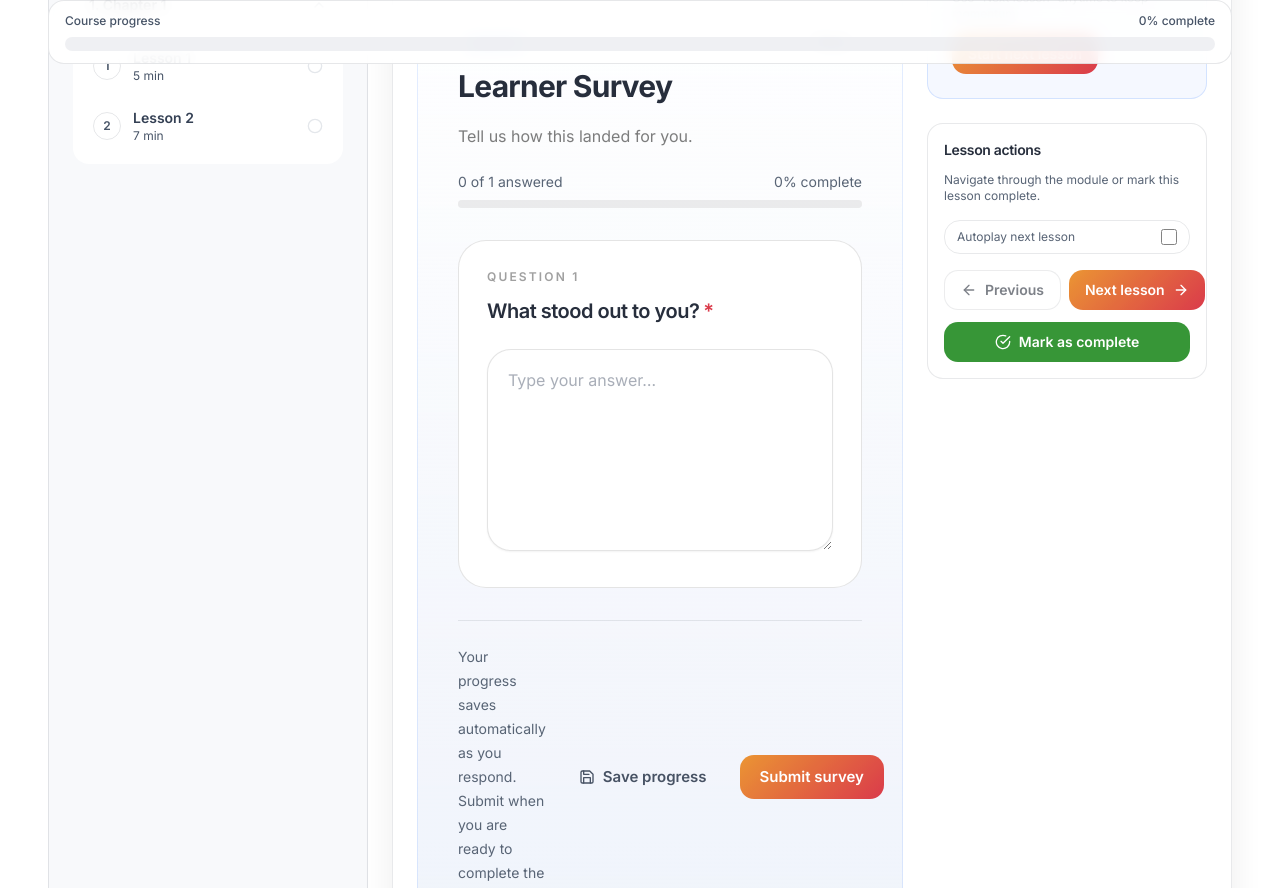
Test: CoursePlayer progress integration › loads a survey lesson, submits successfully, and advances to the next lesson
(page scrolled)
Expected: the heading "Learner Survey" is shown, [458,68,693,104]
Type "The pacing felt clear." into the text box with placeholder "Type your answer…" at (660, 450), box [487,349,833,551]
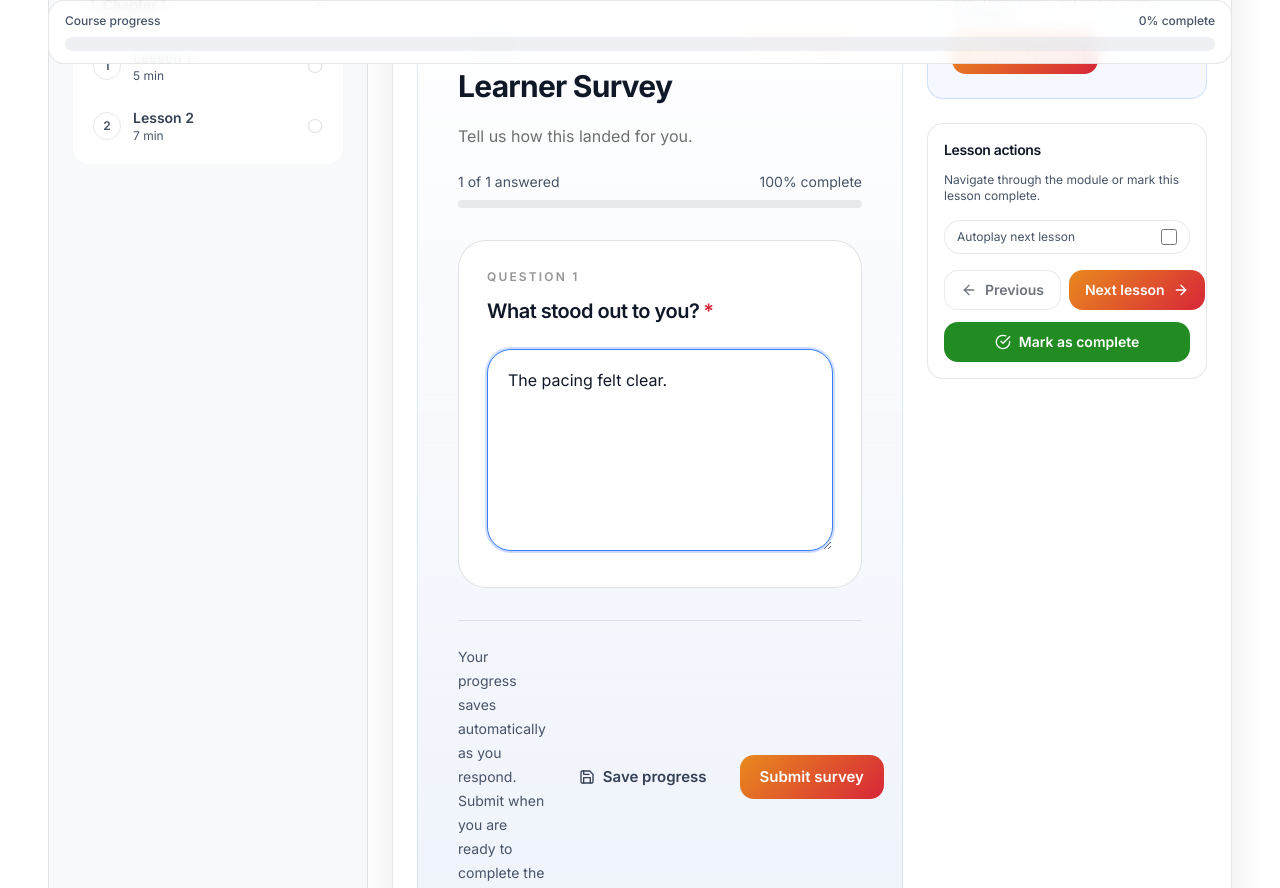
Click the button "Submit survey" at (812, 777), box [740,755,884,799]
(page scrolled)
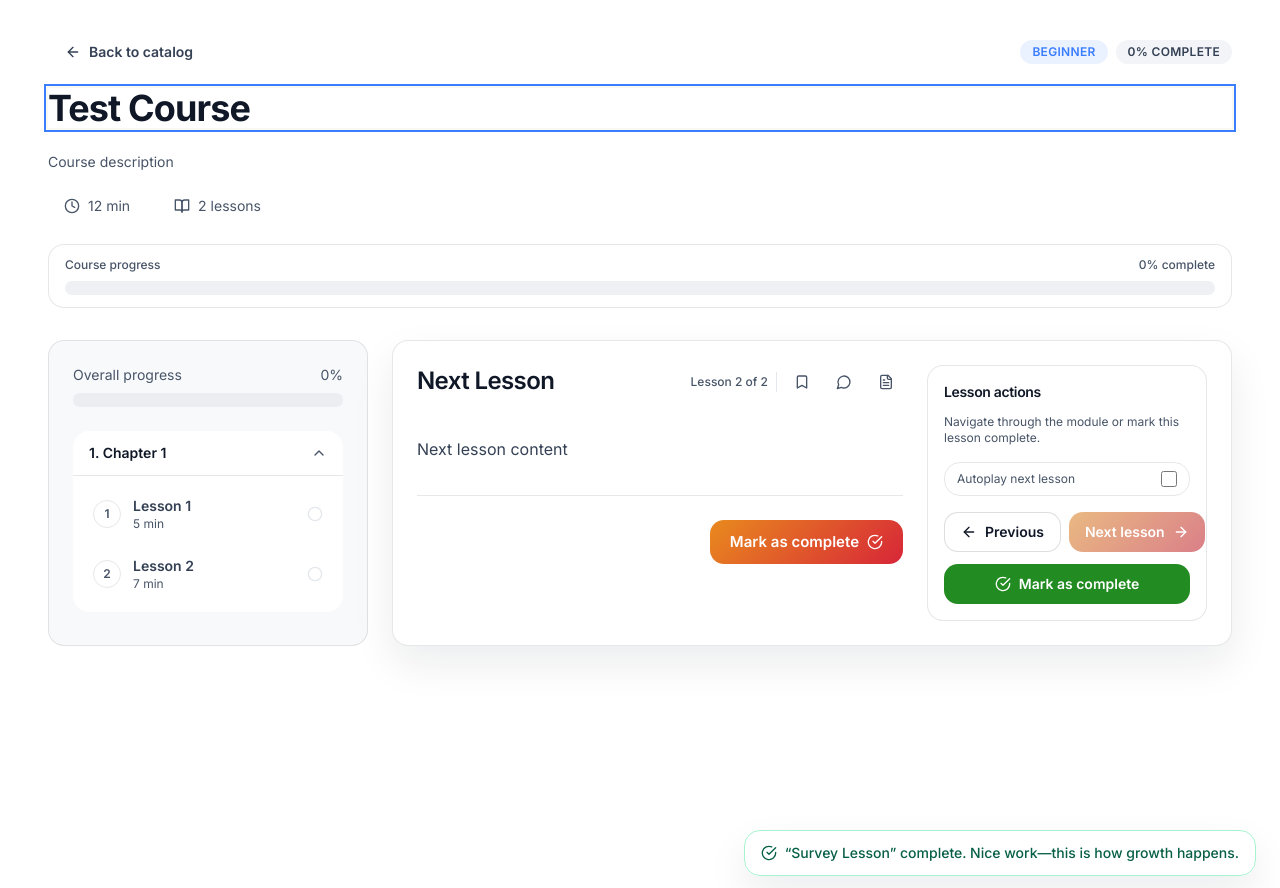
Expected: the text "Next lesson content" is shown, [417,439,568,459]
